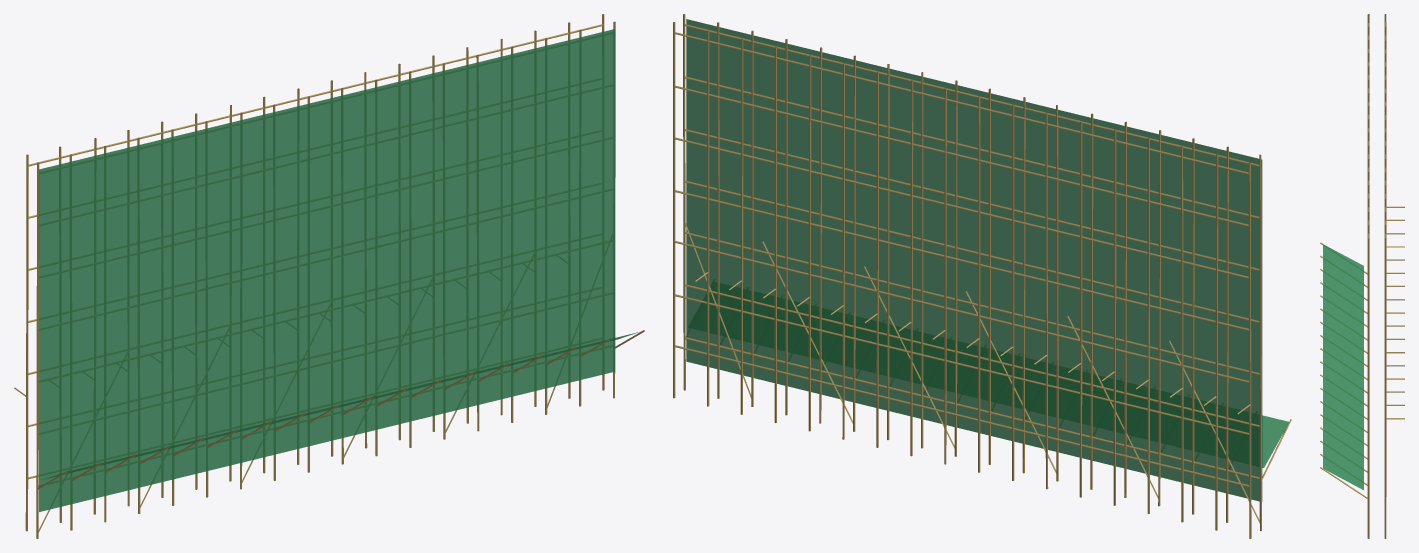
The model's file is hk-podium-tower-scaffold.glb.
3 renders of one model, left to right at view 1: azimuth 30°, elevation 25°; view 2: azimuth 150°, elevation 25°; view 3: azimuth 270°, elevation 25°, orthographic. The views are drawn at different scales.
Visible parts, largest first — view 1: Scaffold_net, Scaffold_bamboo; view 2: Scaffold_net, Scaffold_bamboo; view 3: Scaffold_net, Scaffold_bamboo.
Part boxes in pixels (x1,y1,x2,y2): Scaffold_net: (39, 29, 640, 511); Scaffold_bamboo: (14, 14, 644, 538); Scaffold_net: (686, 19, 1288, 501); Scaffold_bamboo: (673, 14, 1291, 538); Scaffold_net: (1323, 244, 1363, 490); Scaffold_bamboo: (1320, 14, 1404, 538).
Bounding box in the file's own units: 22.1 × 13.7 × 3.52.
